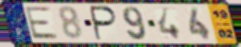4: (159, 7, 184, 41), (188, 7, 212, 42)
8: (57, 5, 84, 42)
9: (123, 6, 150, 42)
E: (23, 6, 61, 40)
P: (89, 5, 120, 42)
